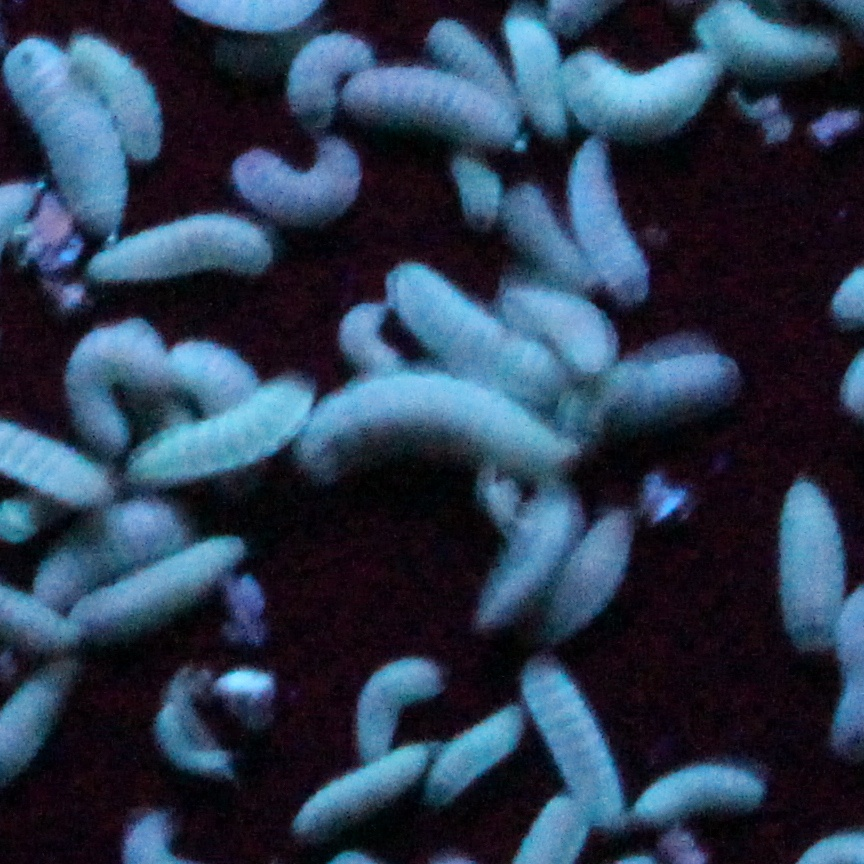larve: (4, 44, 128, 226), (397, 273, 565, 395), (319, 390, 552, 470), (81, 539, 258, 642), (134, 388, 315, 481), (770, 466, 849, 657), (520, 656, 619, 807), (471, 490, 577, 628), (54, 325, 167, 439), (75, 37, 177, 159), (97, 217, 282, 283), (347, 66, 499, 146), (564, 56, 719, 134), (569, 147, 651, 290), (232, 138, 369, 222), (301, 752, 433, 835), (581, 359, 745, 424), (704, 3, 845, 78), (347, 648, 442, 754), (34, 511, 171, 583), (563, 512, 645, 630), (498, 2, 572, 127), (644, 757, 764, 823), (290, 38, 361, 115)
